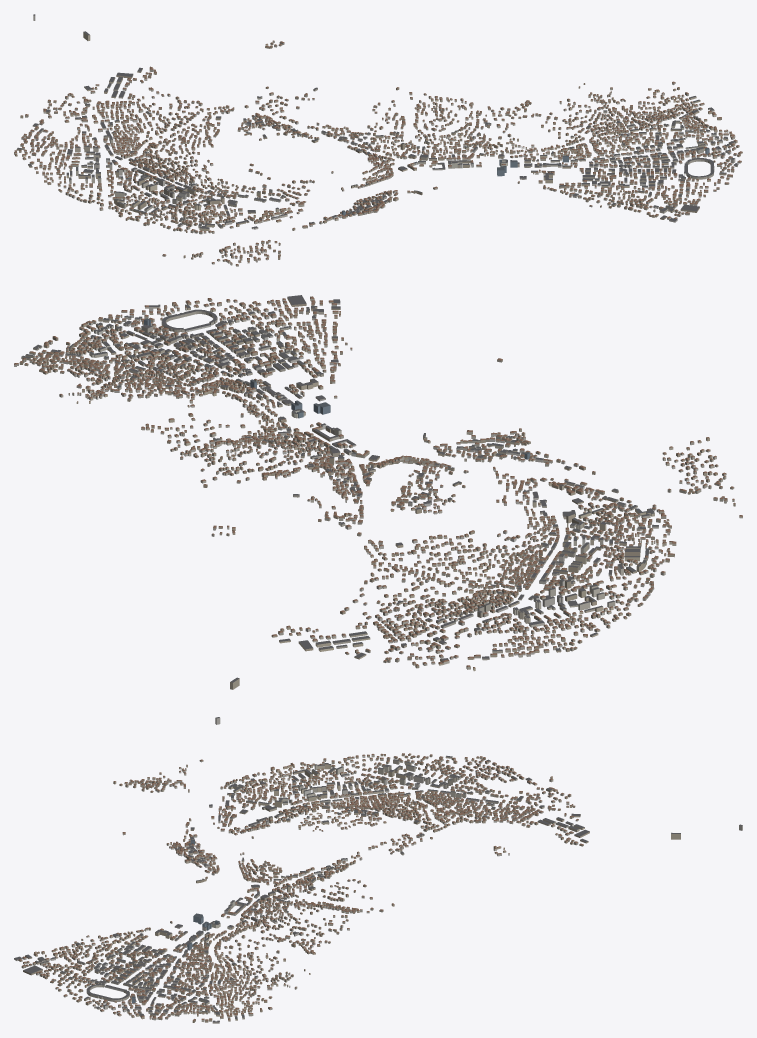
The model's file is buildings.glb.
3 renders of one model, top to bottom at view 1: azimuth 30°, elevation 25°; view 2: azimuth 150°, elevation 25°; view 3: azimuth 270°, elevation 25°, orthographic. The views are drawn at different scales.
Parts seen in each view (by area): view 1: chunk_3_1, chunk_4_1, chunk_-5_-1, chunk_3_2, chunk_3_0, chunk_-5_-2, chunk_4_2, chunk_2_1, chunk_-5_-3, chunk_4_0, chunk_-4_-4, chunk_-1_-1 (+28 smaller); view 2: chunk_3_2, chunk_3_1, chunk_4_2, chunk_4_1, chunk_-5_-3, chunk_-5_-1, chunk_-4_-4, chunk_-4_-3, chunk_-5_-4, chunk_-4_-5, chunk_-5_-2, chunk_2_2 (+24 smaller); view 3: chunk_3_2, chunk_4_1, chunk_4_2, chunk_-5_-2, chunk_3_1, chunk_-5_-1, chunk_-5_-3, chunk_2_2, chunk_3_0, chunk_-5_-4, chunk_2_1, chunk_4_0 (+21 smaller).
Boxes of the visible parts, left/top/right/bottom form: chunk_3_1: left=590, top=128, right=660, bottom=164; chunk_4_1: left=639, top=117, right=713, bottom=150; chunk_-5_-1: left=142, top=186, right=215, bottom=219; chunk_3_2: left=619, top=152, right=684, bottom=185; chunk_3_0: left=563, top=104, right=635, bottom=142; chunk_-5_-2: left=117, top=166, right=192, bottom=200; chunk_4_2: left=668, top=141, right=741, bottom=179; chunk_2_1: left=540, top=143, right=613, bottom=173; chunk_-5_-3: left=93, top=145, right=161, bottom=180; chunk_4_0: left=612, top=89, right=688, bottom=128; chunk_-4_-4: left=107, top=110, right=181, bottom=146; chunk_-1_-1: left=346, top=126, right=407, bottom=166; chunk_3_2: left=173, top=322, right=268, bottom=360; chunk_3_1: left=134, top=346, right=230, bottom=385; chunk_4_2: left=115, top=305, right=217, bottom=345; chunk_4_1: left=75, top=328, right=164, bottom=368; chunk_-5_-3: left=484, top=569, right=581, bottom=609; chunk_-5_-1: left=562, top=519, right=645, bottom=560; chunk_-4_-4: left=392, top=570, right=482, bottom=623; chunk_-4_-3: left=427, top=536, right=514, bottom=595; chunk_-5_-4: left=454, top=596, right=543, bottom=633; chunk_-4_-5: left=349, top=602, right=445, bottom=647; chunk_-5_-2: left=520, top=542, right=614, bottom=586; chunk_2_2: left=232, top=337, right=326, bottom=372; chunk_3_2: left=99, top=962, right=158, bottom=989; chunk_4_1: left=155, top=983, right=213, bottom=1011; chunk_4_2: left=86, top=984, right=157, bottom=1012; chunk_-5_-2: left=320, top=776, right=380, bottom=802; chunk_3_1: left=154, top=962, right=213, bottom=987; chunk_-5_-1: left=269, top=778, right=327, bottom=803; chunk_-5_-3: left=373, top=775, right=438, bottom=802; chunk_2_2: left=100, top=940, right=158, bottom=965; chunk_3_0: left=210, top=953, right=268, bottom=985; chunk_-5_-4: left=430, top=776, right=490, bottom=803; chunk_2_1: left=154, top=938, right=211, bottom=964; chunk_4_0: left=212, top=980, right=267, bottom=1010.
Bounding box in the file's own units: 2929 × 207 × 3288.
